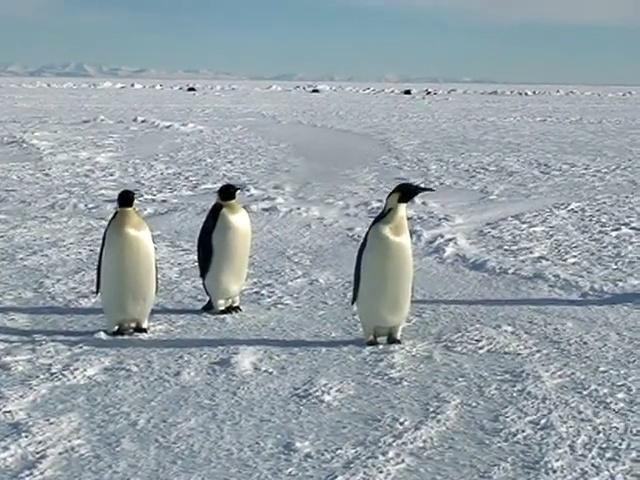animal: (352, 185, 435, 345)
